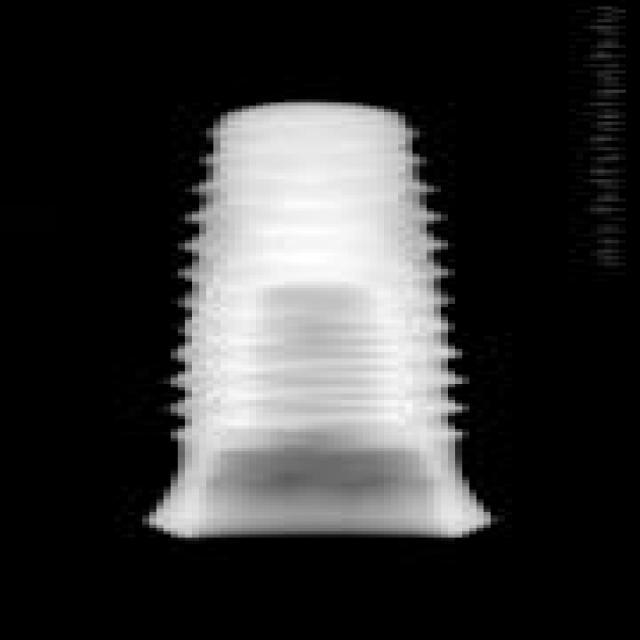Titan Implant Implant: (142, 99, 491, 538)
